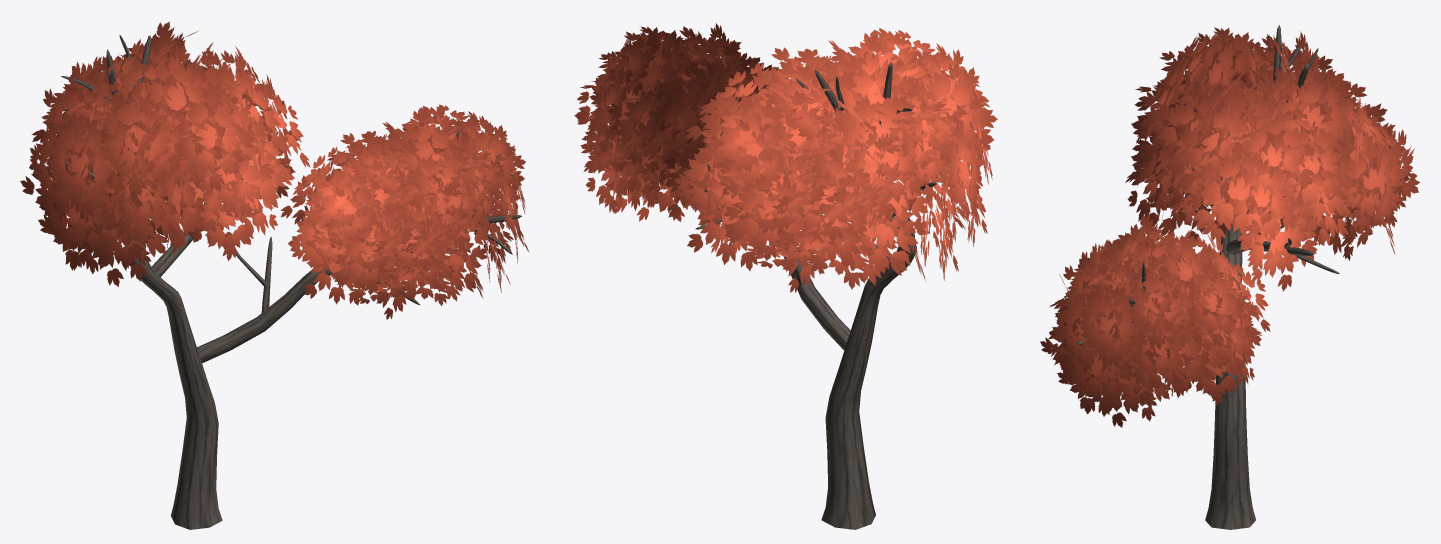
File: MapleTree_1.glb
3 views of the same model, side by side, from view 1: azimuth 30°, elevation 25°; view 2: azimuth 150°, elevation 25°; view 3: azimuth 270°, elevation 25° (orthographic). The views are drawn at different scales.
Parts seen in each view (by area): view 1: MapleTree_1; view 2: MapleTree_1; view 3: MapleTree_1.
Boxes of the visible parts, box(x1,y1,x2,y2) form: MapleTree_1: box(20, 21, 528, 529); MapleTree_1: box(574, 23, 997, 529); MapleTree_1: box(1040, 25, 1420, 529).
Size of the model in its own units: 6.23 by 6.64 by 4.9.
2 materials, 2 textured.
